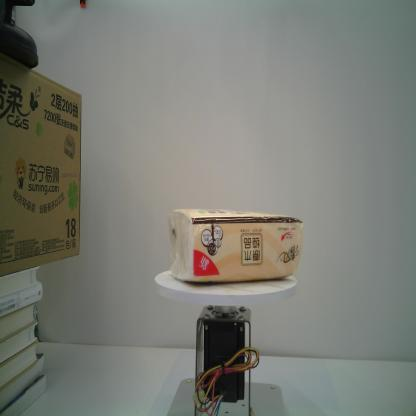Tissue: (166, 207, 305, 286)
